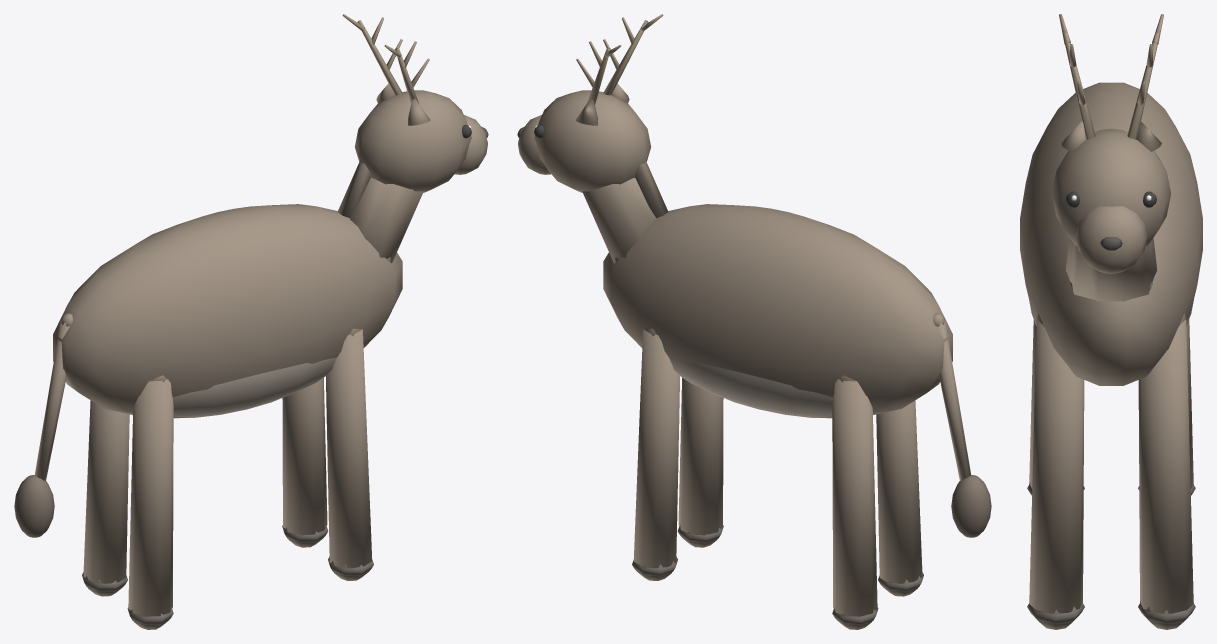
Rendered from formosan-sambar.glb.
The picture shows the model from 3 angles, left to right: view 1: azimuth 30°, elevation 25°; view 2: azimuth 150°, elevation 25°; view 3: azimuth 270°, elevation 25°; orthographic projection. The views are drawn at different scales.
Visible parts, largest first — view 1: e, cone, e.008, e.002, e.011, e.005, e.025; view 2: e, cone, e.011, e.005, e.008, e.002, e.025; view 3: e, cone, e.005, e.002, e.008, e.011.
Part boxes in pixels (x1,y1,x2,y2): e: (53,160,423,418); cone: (342,14,488,192); e.008: (127,375,173,629); e.002: (326,328,373,580); e.011: (82,400,129,596); e.005: (282,377,328,547); e.025: (14,313,72,537); e: (582,160,952,418); cone: (517,14,663,192); e.011: (832,375,878,629); e.005: (632,328,679,580); e.008: (876,400,923,596); e.002: (677,377,723,547); e.025: (933,313,991,537); e: (1020,82,1202,385); cone: (1051,14,1171,273); e.005: (1138,313,1195,629); e.002: (1027,313,1084,629); e.008: (1027,320,1084,495); e.011: (1138,320,1195,495).
Bounding box in the file's own units: 1.5 × 1.6 × 0.4157.
